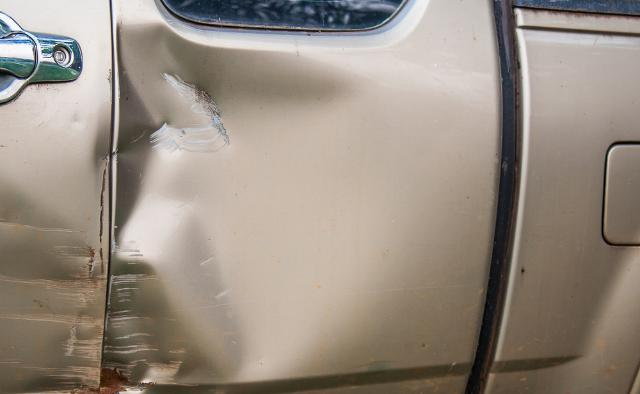dent: (0, 178, 111, 394)
scratch: (99, 22, 366, 394)
